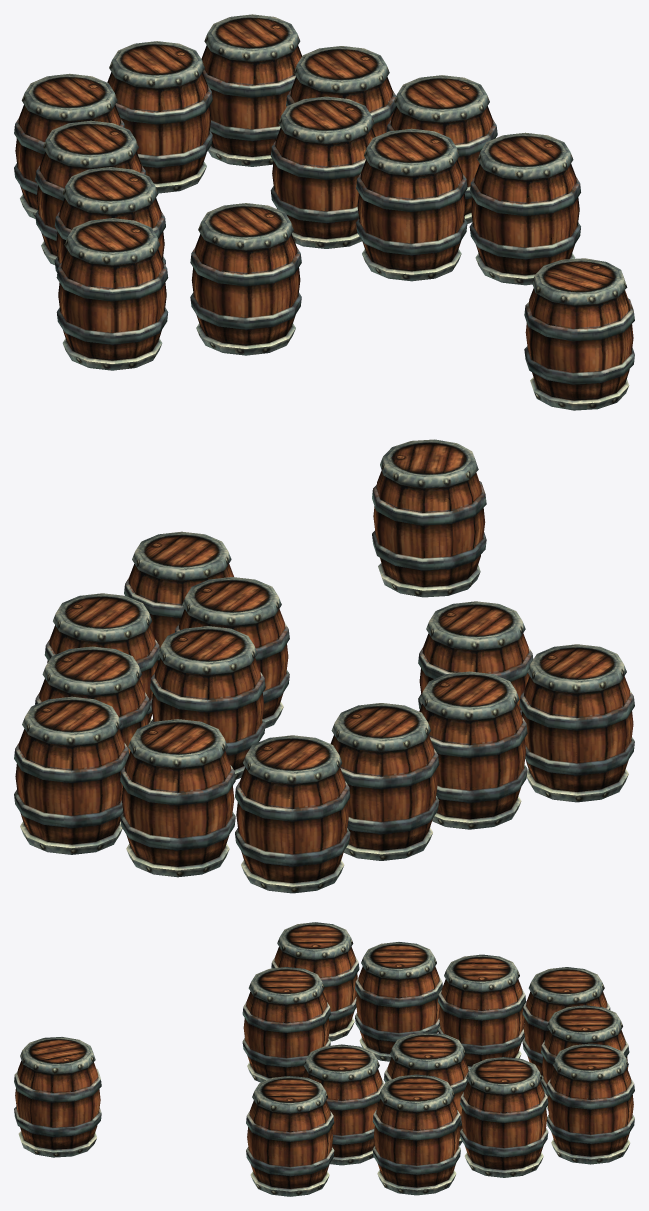
The model's file is PUSH2_BARRELS.fbx.
3 views of the same model, one above another, from view 1: azimuth 30°, elevation 25°; view 2: azimuth 150°, elevation 25°; view 3: azimuth 270°, elevation 25° (orthographic). The views are drawn at different scales.
Visible parts, largest first — view 1: PUSH2_BARRELS; view 2: PUSH2_BARRELS; view 3: PUSH2_BARRELS.
Boxes of the visible parts, bbox=[...] form: PUSH2_BARRELS: bbox=[14, 14, 634, 410]; PUSH2_BARRELS: bbox=[14, 439, 634, 893]; PUSH2_BARRELS: bbox=[14, 922, 634, 1196].
Size of the model in its own units: 40273 by 9241 by 55324.
2 materials, 2 textured.
